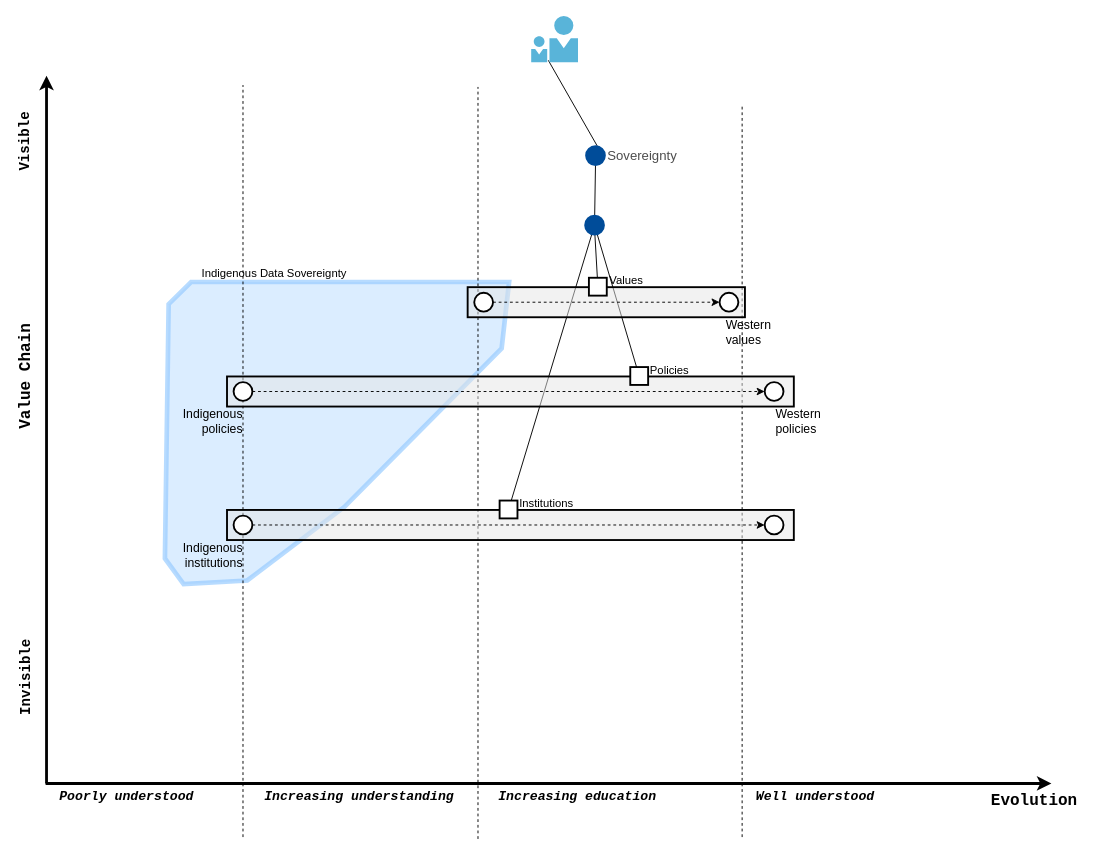
This 1093x856 diagram has some shape labels left out. The centre of each missing label's shape, as x and y in pixels:
First nation people: the point at 554,39
Governance: the point at 594,224
Indegenous values: the point at 483,301
Western institutions: the point at 773,524
